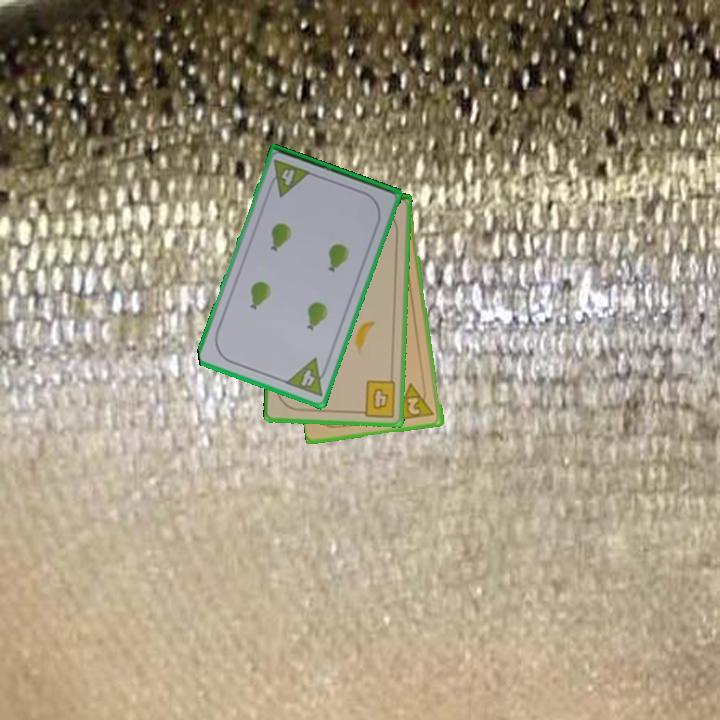2p: (394, 379, 438, 423)
4b: (355, 377, 398, 420)
4p: (282, 355, 332, 399), (264, 157, 314, 200)
